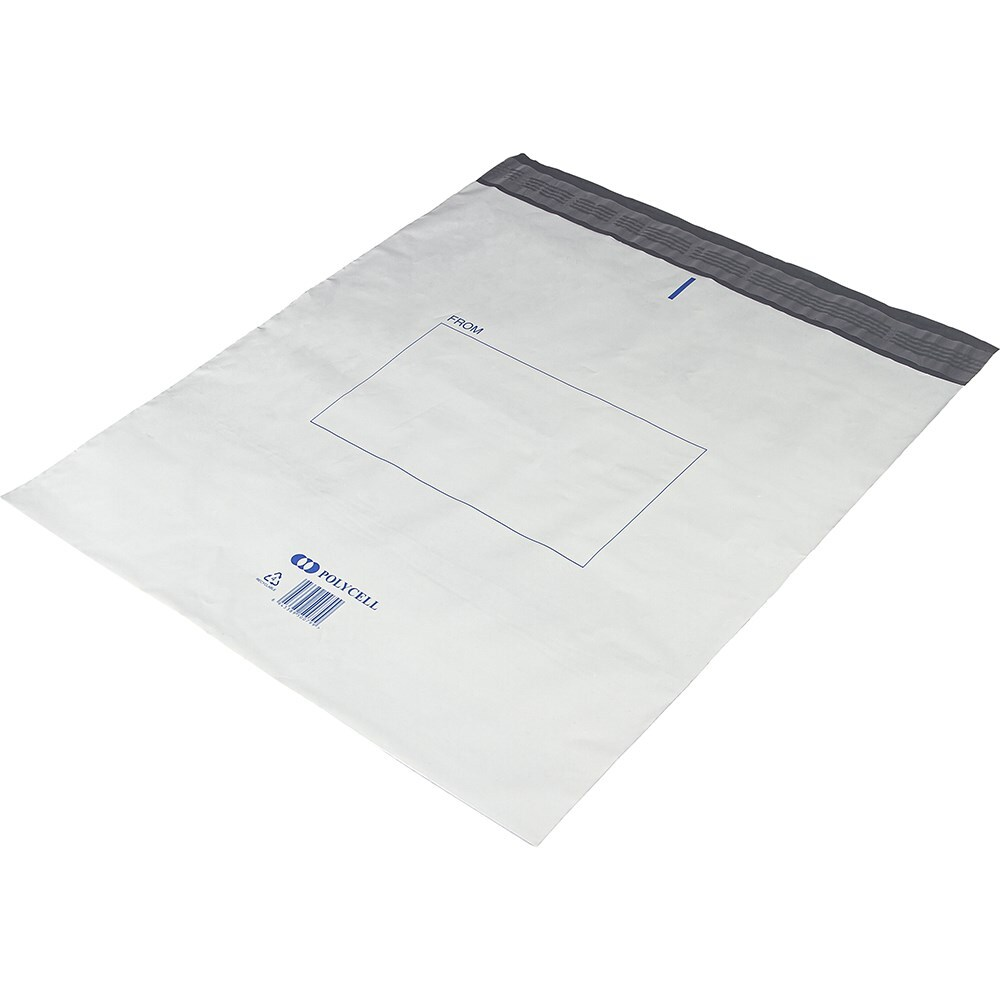塑料袋: (4, 155, 996, 842)
